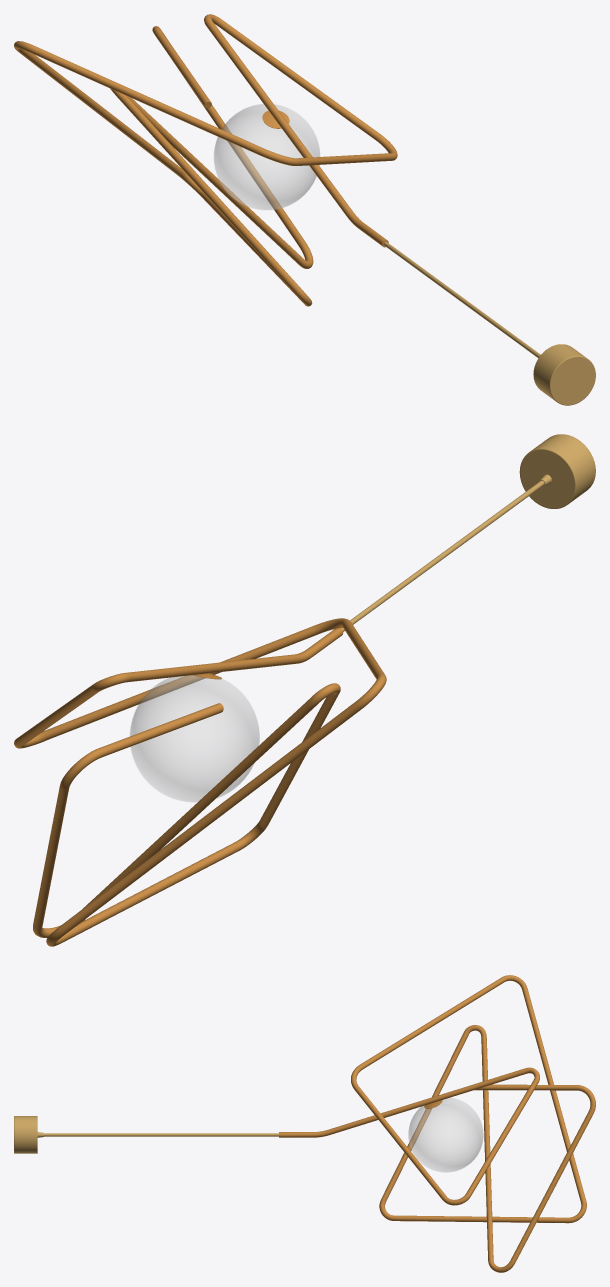
File: Gibas_Inciucio_201_21_mat(1).obj
3 renders of one model, top to bottom at view 1: azimuth 30°, elevation 25°; view 2: azimuth 150°, elevation 25°; view 3: azimuth 270°, elevation 25°, orthographic. The views are drawn at different scales.
Parts seen in each view (by area): view 1: Gibas_Inciucio_201_21_mat1; view 2: Gibas_Inciucio_201_21_mat1; view 3: Gibas_Inciucio_201_21_mat1.
Boxes of the visible parts, left/top/right/bottom form: Gibas_Inciucio_201_21_mat1: left=14, top=14, right=595, bottom=405; Gibas_Inciucio_201_21_mat1: left=14, top=434, right=595, bottom=946; Gibas_Inciucio_201_21_mat1: left=14, top=975, right=595, bottom=1272.
Size of the model in its own units: 58.3 by 47.13 by 123.
